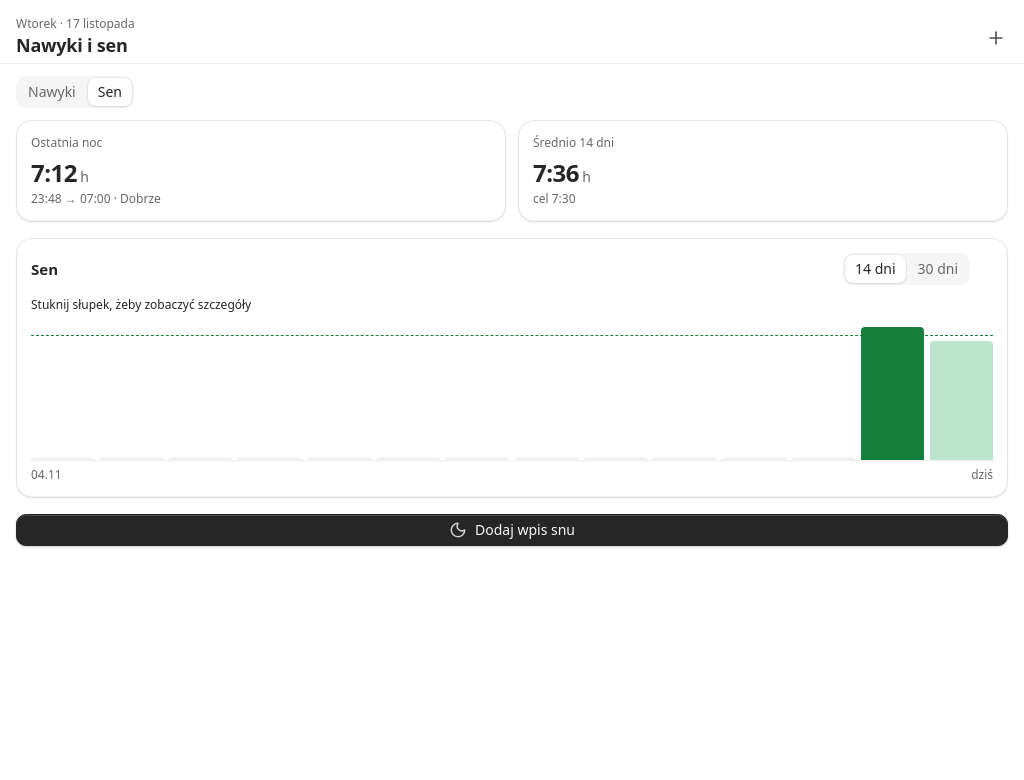
Test: MHabits — zakładka Sen › wykres 14/30: podpowiedź, stuknięcie słupka pokazuje szczegóły
The width and height of the screenshot is (1024, 780).
Expected: the text "Stuknij słupek, żeby zobaczyć szczegóły" is shown, [31,296,251,313]
Click the button named "16.11 · 8:00 h". click: click(892, 390)
box: [861,321,924,460]
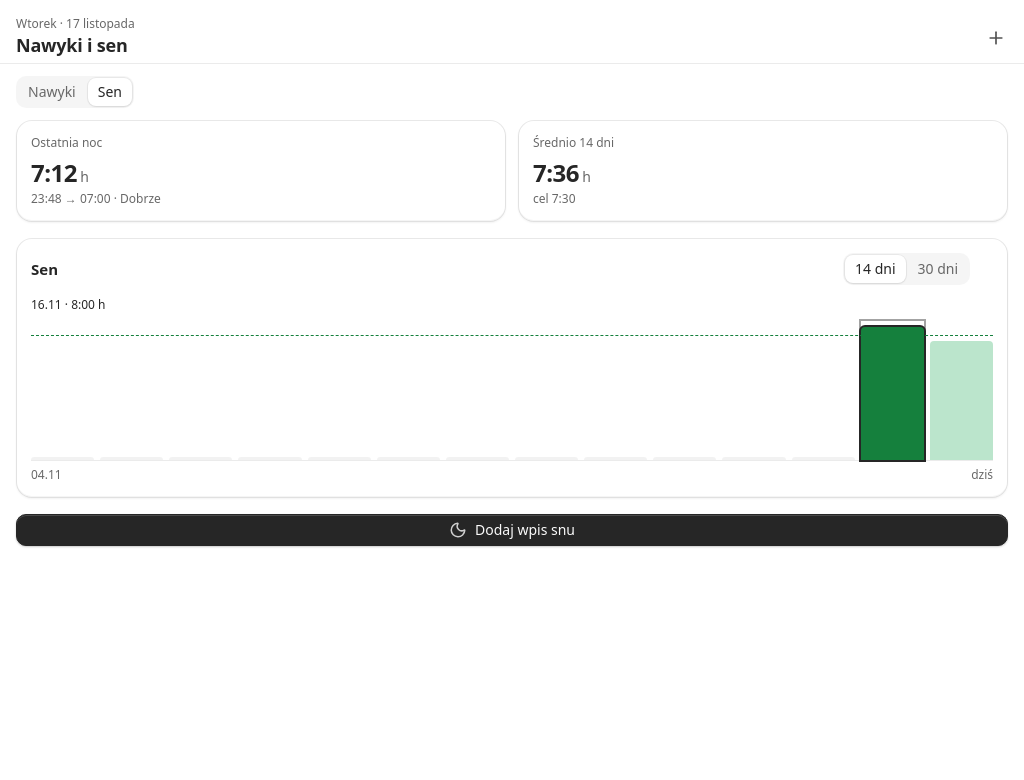
Now the text "16.11 · 8:00 h" is shown, box [31,296,106,313]
Now the text "Stuknij słupek, żeby zobaczyć szczegóły" is gone
Click the radio button labelled "30 dni". click: click(938, 269)
box: [908,255,968,283]
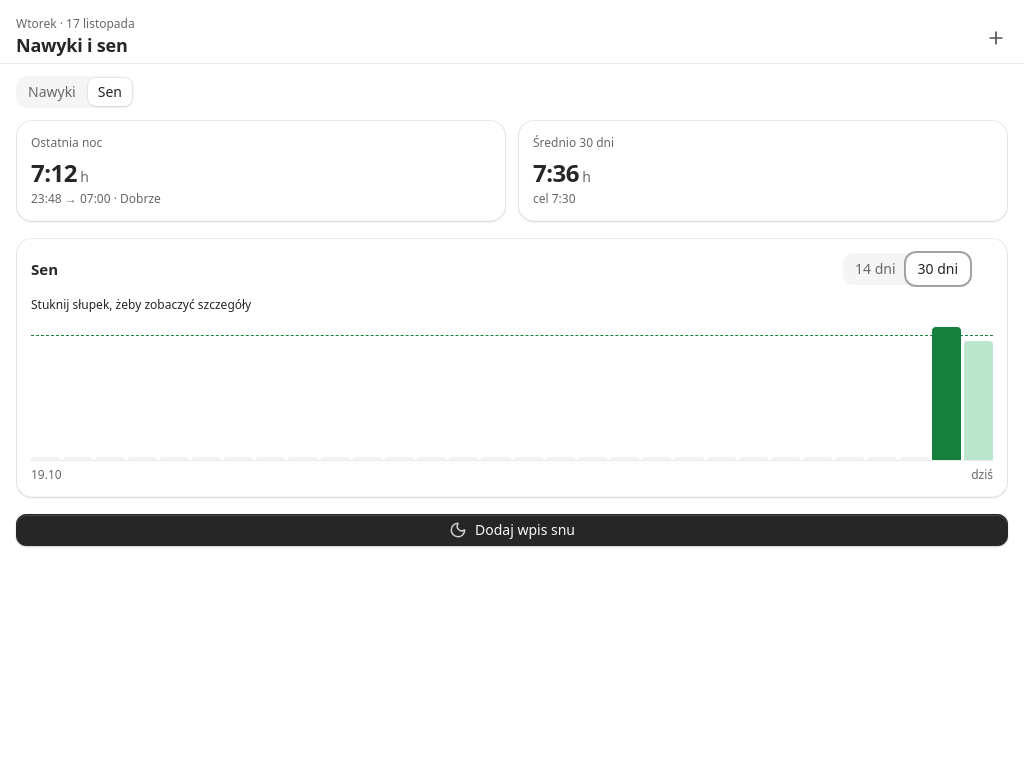
Now the text "Średnio 30 dni" is shown, box [533,134,614,151]
Now the text "Stuknij słupek, żeby zobaczyć szczegóły" is shown, box [31,296,251,313]
